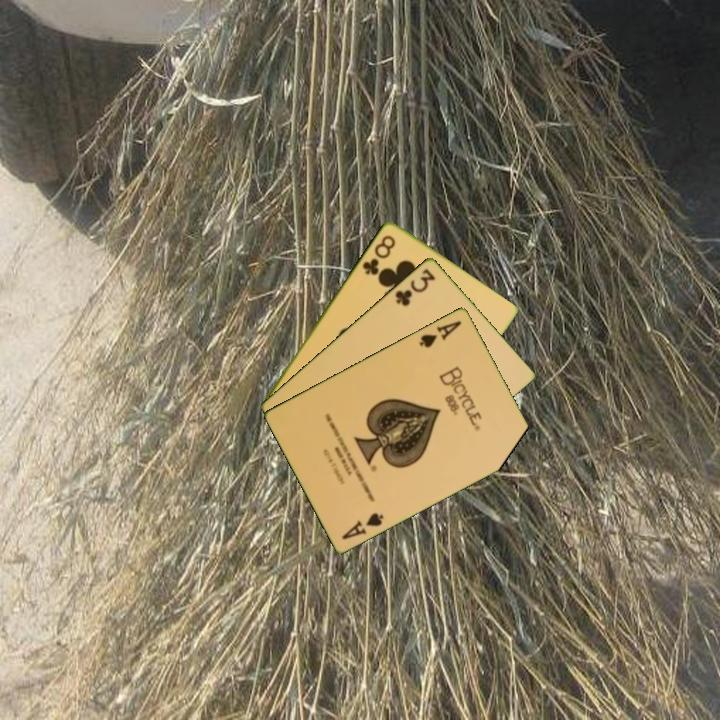3c: (392, 264, 438, 309)
8c: (359, 231, 398, 278)
As: (415, 317, 465, 350), (338, 509, 387, 542)
